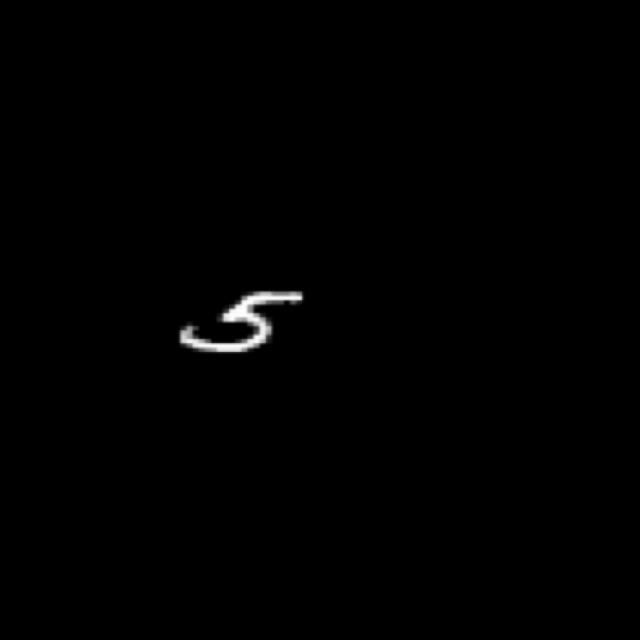five -5-: (166, 280, 316, 362)
